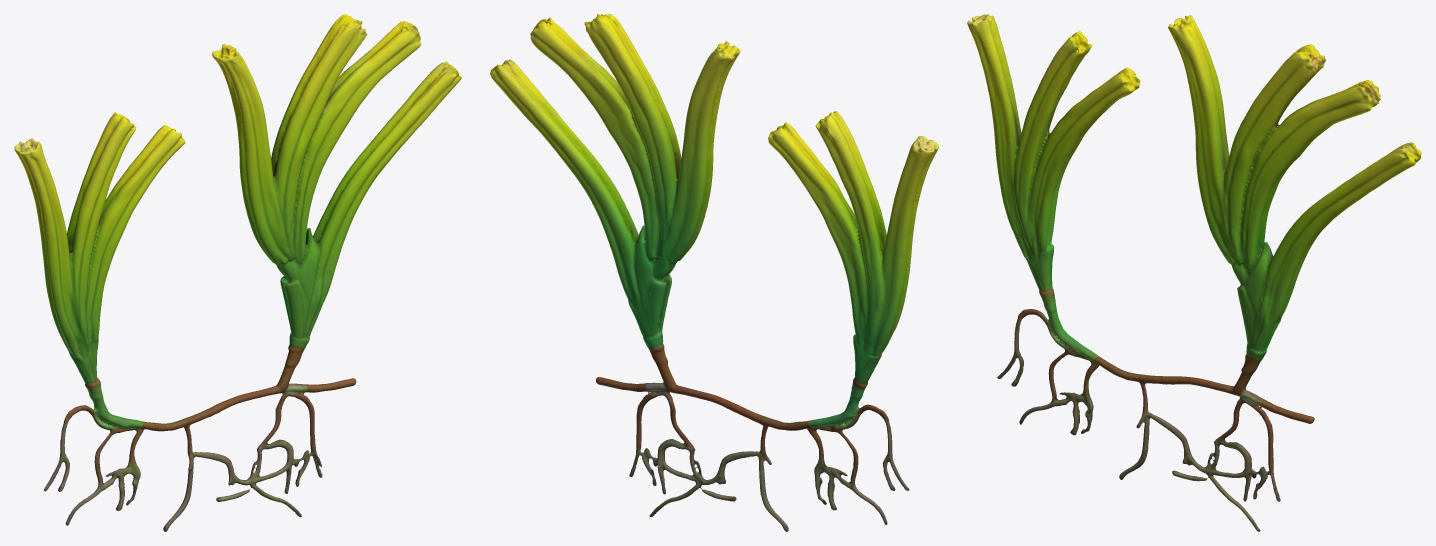
File: cymodocea_serrulata.glb
The picture shows the model from 3 angles, left to right: view 1: azimuth 30°, elevation 25°; view 2: azimuth 150°, elevation 25°; view 3: azimuth 330°, elevation 25°; orthographic projection.
Size of the model in its own units: 1.89 by 2 by 0.1116.
Materials: 1 (1 with a texture image).
